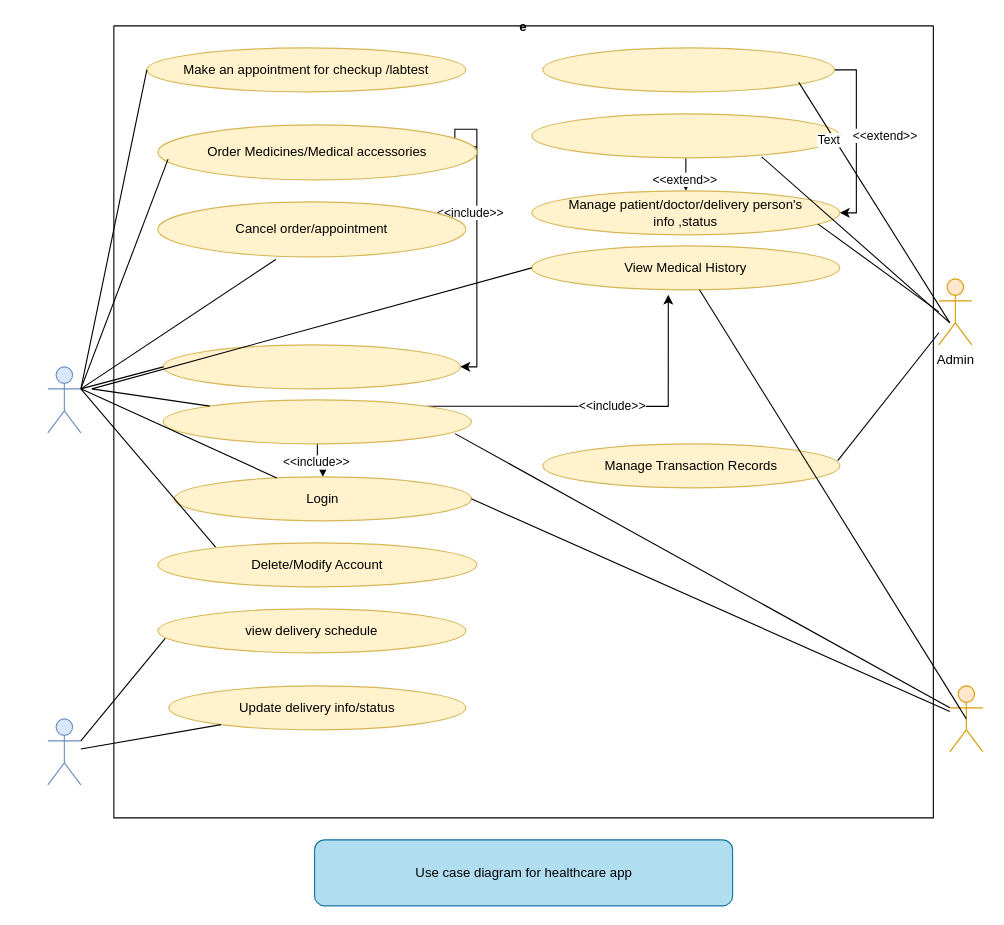
Image size: 1004x925. Some labels were removed from this diagram. The box of each missing label's shape, as (x1, y1, x2, y2) in pixels:
Create Account: (162, 399, 471, 444)
Delivery person: (47, 718, 81, 785)
Doctor: (949, 685, 983, 752)
Make Payment: (162, 344, 460, 389)
Patient: (47, 366, 81, 433)
synchronize schedule of doctor &patient: (531, 113, 840, 158)
Upload Collected data: (542, 47, 834, 92)
